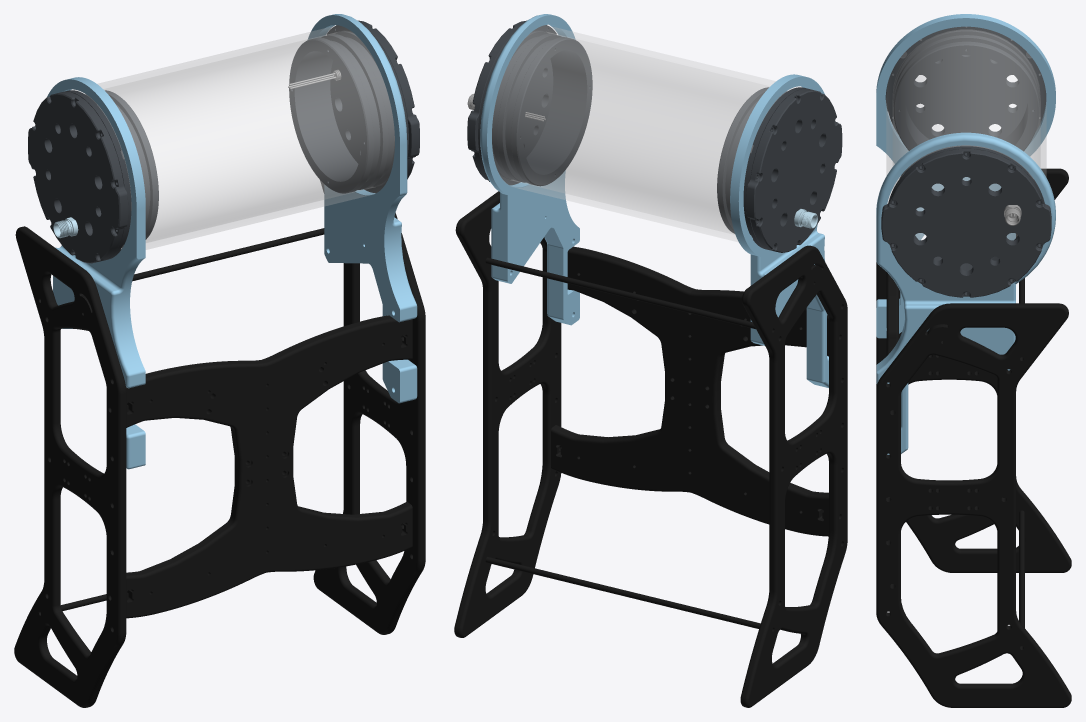
File: payload.dae
3 renders of one model, left to right at view 1: azimuth 30°, elevation 25°; view 2: azimuth 150°, elevation 25°; view 3: azimuth 270°, elevation 25°, orthographic. The views are drawn at different scales.
Parts seen in each view (by area): view 1: WTE6-P-TUBE-12-R1, BROV2-P-SKID-PANEL-R2 (×2), BROV2-P-BOTTOMPANEL-R1, WTE6-END-CAP-5xM14-5xM10 (×2), WTE6-M-FLANGE-SEAL-R1 (×2), soporte_payload_L, soporte_payload_R, BROV-M-STANDOFF-R1; view 2: WTE6-P-TUBE-12-R1, BROV2-P-SKID-PANEL-R2 (×2), BROV2-P-BOTTOMPANEL-R1, WTE6-END-CAP-5xM14-5xM10 (×2), WTE6-M-FLANGE-SEAL-R1 (×2), soporte_payload_L, soporte_payload_R, BROV-M-STANDOFF-R1 (×2); view 3: BROV2-P-SKID-PANEL-R2 (×2), WTE6-END-CAP-5xM14-5xM10 (×2), WTE6-P-TUBE-12-R1, soporte_payload_L, WTE6-M-FLANGE-SEAL-R1 (×2), soporte_payload_R, BROV2-P-BOTTOMPANEL-R1, BROV-M-STANDOFF-R1.
Part boxes in pixels (box(x1,y1,x2,y2)): WTE6-P-TUBE-12-R1: box(75, 25, 394, 249); BROV2-P-SKID-PANEL-R2 (×2): box(14, 180, 425, 707); BROV2-P-BOTTOMPANEL-R1: box(126, 315, 412, 618); WTE6-END-CAP-5xM14-5xM10 (×2): box(28, 20, 419, 263); WTE6-M-FLANGE-SEAL-R1 (×2): box(64, 25, 408, 260); soporte_payload_L: box(307, 14, 417, 403); soporte_payload_R: box(47, 77, 145, 469); BROV-M-STANDOFF-R1: box(132, 228, 324, 281); WTE6-P-TUBE-12-R1: box(492, 25, 797, 241); BROV2-P-SKID-PANEL-R2 (×2): box(454, 191, 847, 707); BROV2-P-BOTTOMPANEL-R1: box(551, 246, 828, 536); WTE6-END-CAP-5xM14-5xM10 (×2): box(467, 20, 842, 252); WTE6-M-FLANGE-SEAL-R1 (×2): box(478, 25, 806, 250); soporte_payload_L: box(480, 14, 579, 325); soporte_payload_R: box(730, 74, 828, 387); BROV-M-STANDOFF-R1 (×2): box(485, 257, 760, 628); BROV2-P-SKID-PANEL-R2 (×2): box(876, 168, 1071, 707); WTE6-END-CAP-5xM14-5xM10 (×2): box(881, 55, 1051, 297); WTE6-P-TUBE-12-R1: box(886, 27, 1046, 239); soporte_payload_L: box(876, 132, 1055, 454); WTE6-M-FLANGE-SEAL-R1 (×2): box(886, 26, 1046, 292); soporte_payload_R: box(876, 14, 1055, 338); BROV2-P-BOTTOMPANEL-R1: box(886, 272, 898, 584); BROV-M-STANDOFF-R1: box(1019, 510, 1024, 627).
Bounding box in the file's own units: 0.3664 × 0.2013 × 0.6406.
